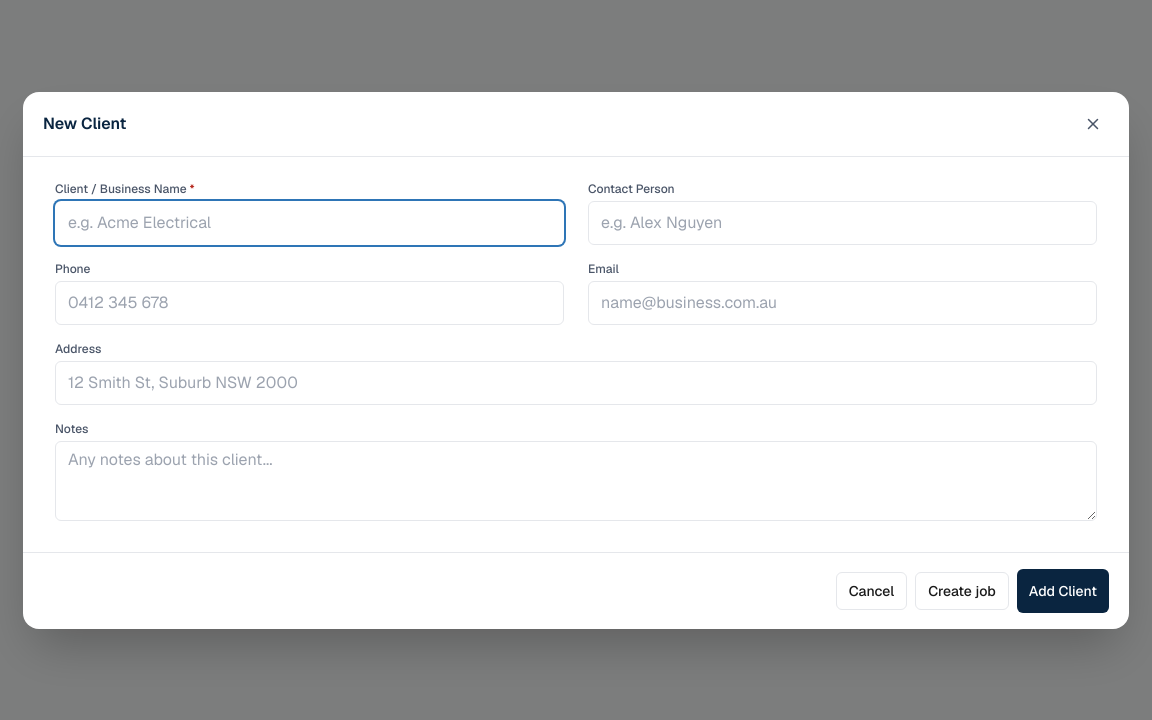
Test: ClientForm field validation › blocks a blank name next to the name field
Click the button "Add Client" at (1063, 590), box [1017,568,1109,612]
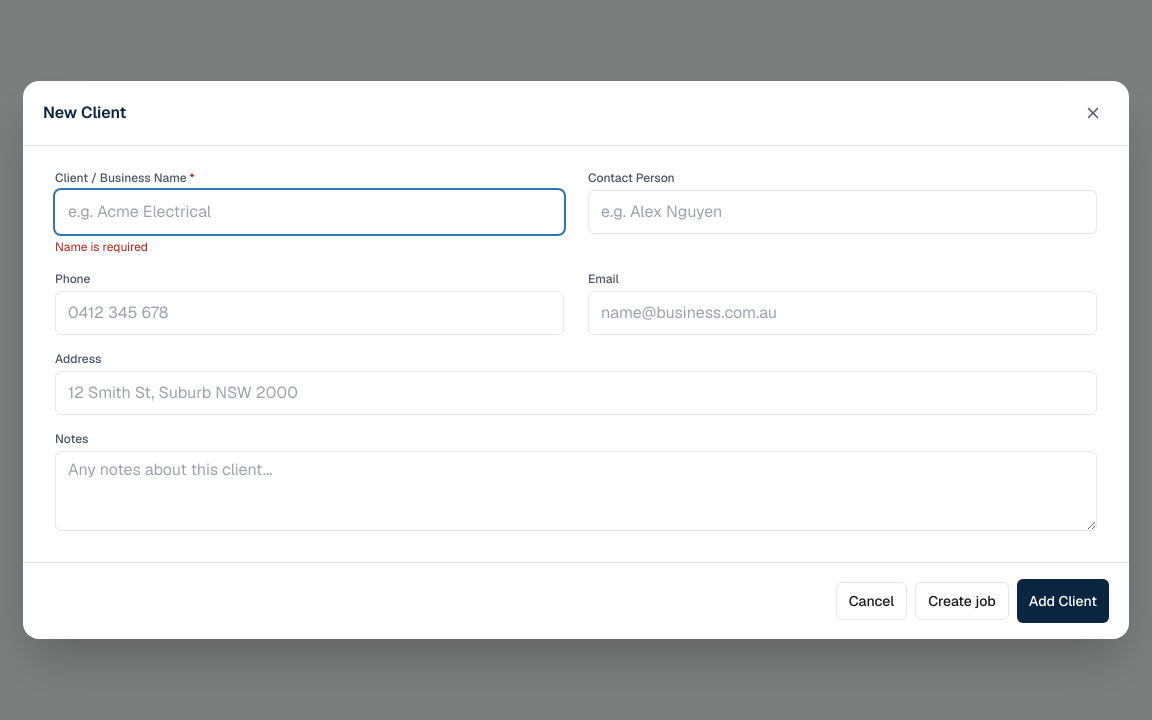
Result: the text with id "client-form-name-error" reads "Name is required" at [55,239,148,255]
